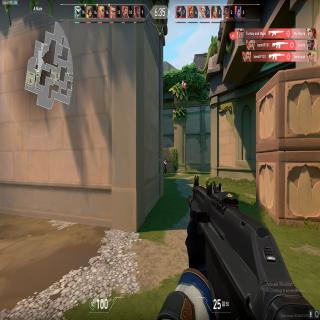ENEMY-BODY: (164, 158, 166, 176)
ENEMY-HEAD: (165, 158, 166, 162)
